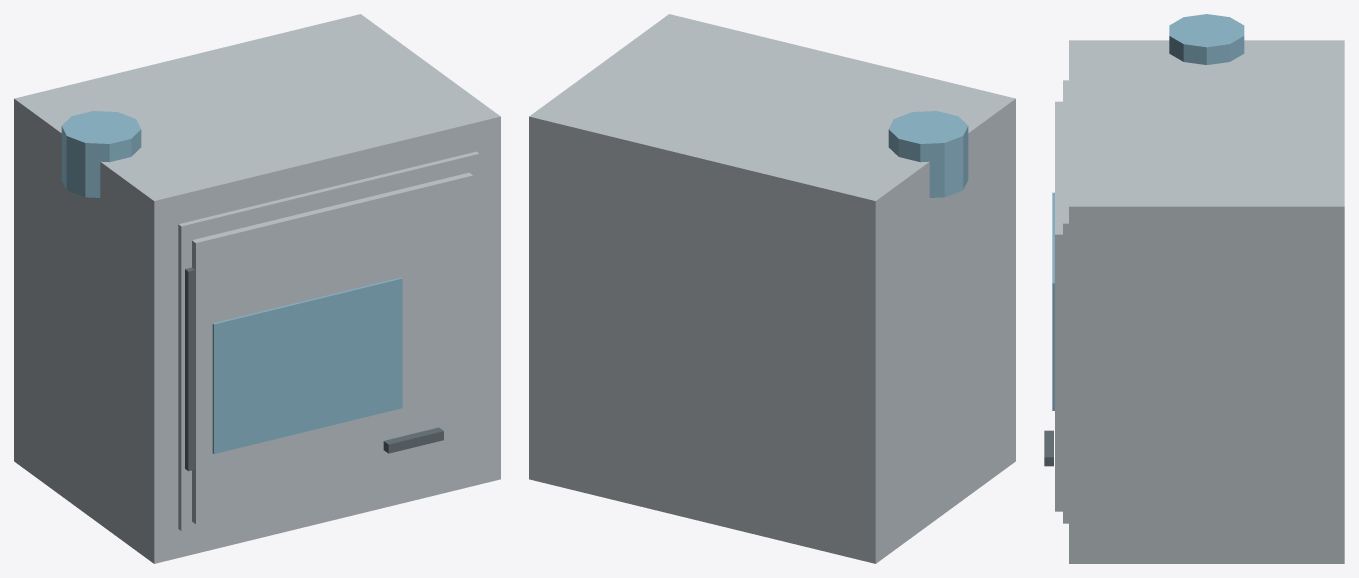
Rendered from injection_moulding_machine.glb.
3 renders of one model, left to right at view 1: azimuth 30°, elevation 25°; view 2: azimuth 150°, elevation 25°; view 3: azimuth 270°, elevation 25°, orthographic.
Bounding box in the file's own units: 1.05 × 1.05 × 0.7625.
